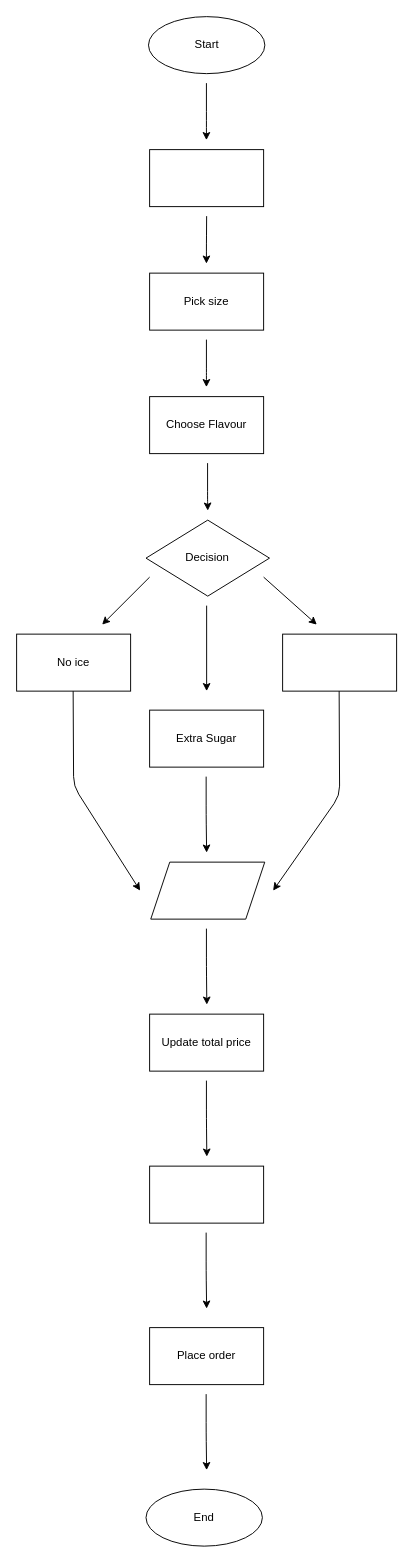
Image size: 413x1563. Some labels were removed from this diagram. Here are the shapes that lost their labels. From the top down, the centre of each, then its label:
the point at 206,178: Initialize Vars
the point at 339,662: No sugar
the point at 207,890: Enter Quantity
the point at 206,1194: Show order info
